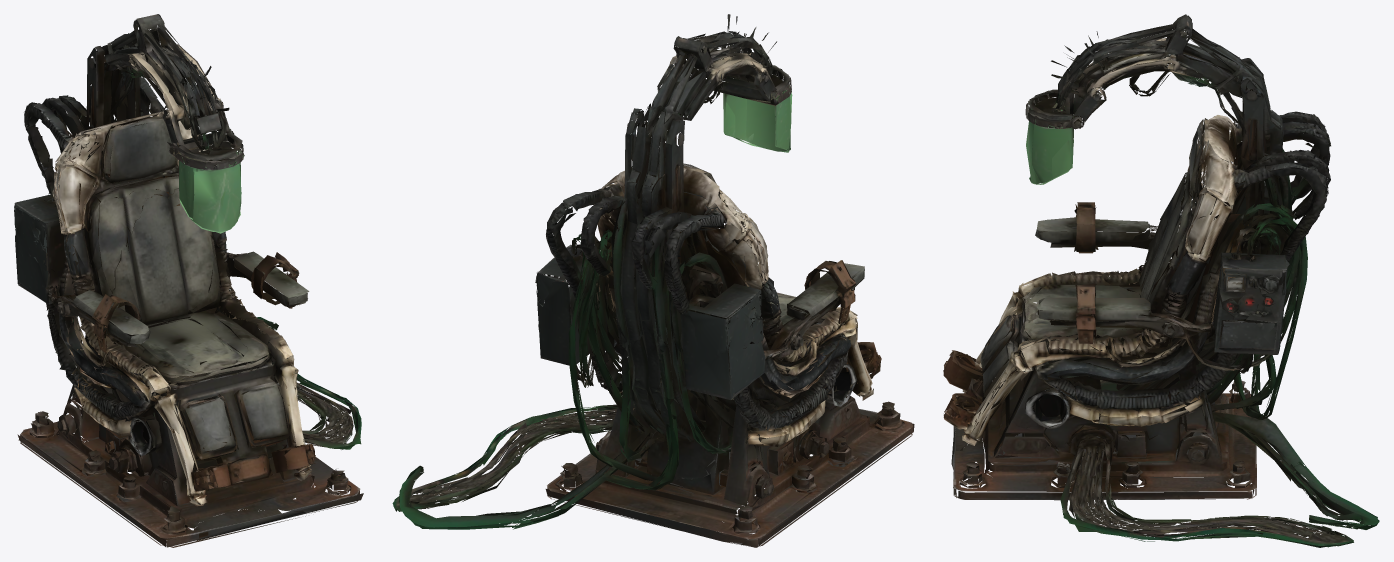
The model's file is corp_interrogation_chair.glb.
3 renders of one model, left to right at view 1: azimuth 30°, elevation 25°; view 2: azimuth 150°, elevation 25°; view 3: azimuth 270°, elevation 25°, orthographic. The views are drawn at different scales.
Parts seen in each view (by area): view 1: node_0; view 2: node_0; view 3: node_0.
Boxes of the visible parts, x1,y1,x2,y2 form: node_0: [14, 14, 363, 547]; node_0: [392, 14, 914, 547]; node_0: [943, 14, 1379, 547].
Size of the model in its own units: 0.5984 by 0.8128 by 0.7423.
Materials: 1 (1 with a texture image).
